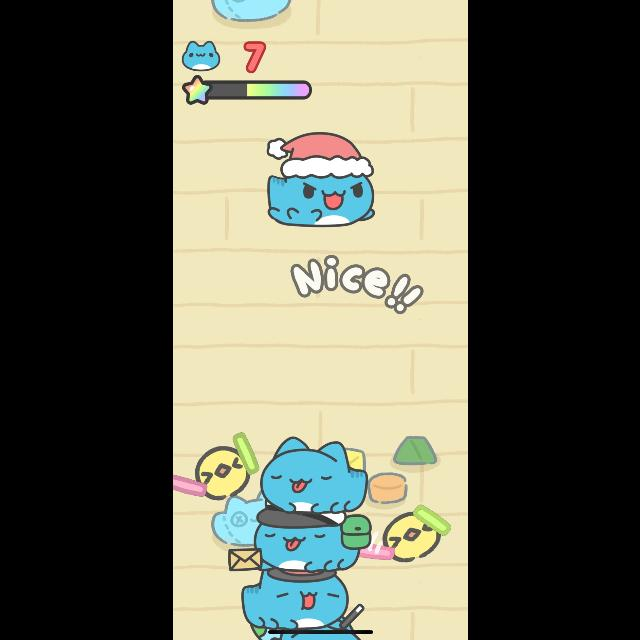capoo: (259, 128, 381, 225), (231, 508, 379, 578), (228, 567, 374, 633), (258, 437, 372, 519)
